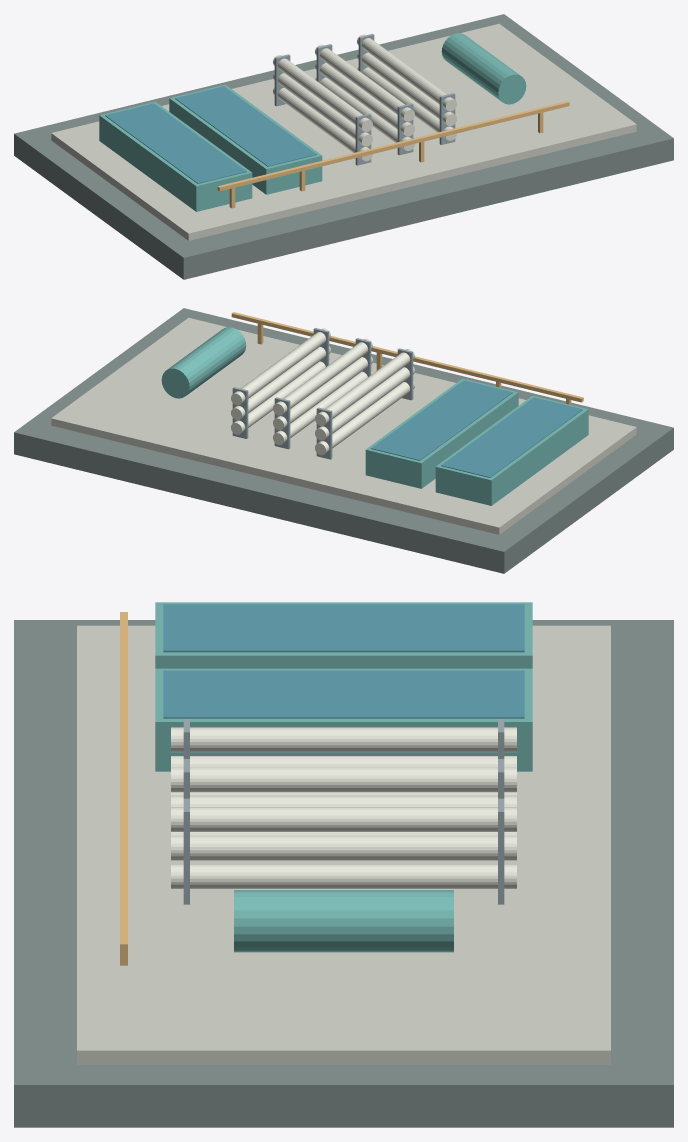
Rendered from world-newater.glb.
3 renders of one model, top to bottom at view 1: azimuth 30°, elevation 25°; view 2: azimuth 150°, elevation 25°; view 3: azimuth 270°, elevation 25°, orthographic. The views are drawn at different scales.
Parts seen in each view (by area): view 1: stage-1-warm-concrete.003, stage-0-excavated-strata.003, stage-3-porcelain.003, stage-2-water-section.003, stage-2-infrastructure-teal.003, stage-4-infrastructure-teal.003, stage-4-safety-ochre.003, stage-3-structural-steel.003; view 2: stage-1-warm-concrete.003, stage-0-excavated-strata.003, stage-3-porcelain.003, stage-2-water-section.003, stage-2-infrastructure-teal.003, stage-4-infrastructure-teal.003, stage-4-safety-ochre.003, stage-3-structural-steel.003; view 3: stage-1-warm-concrete.003, stage-0-excavated-strata.003, stage-3-porcelain.003, stage-2-water-section.003, stage-2-infrastructure-teal.003, stage-4-infrastructure-teal.003, stage-4-safety-ochre.003, stage-3-structural-steel.003.
Part boxes in pixels (x1,y1,x2,y2): stage-1-warm-concrete.003: (51, 23, 636, 240); stage-0-excavated-strata.003: (14, 14, 673, 279); stage-3-porcelain.003: (273, 34, 456, 161); stage-2-water-section.003: (105, 86, 316, 183); stage-2-infrastructure-teal.003: (99, 84, 322, 211); stage-4-infrastructure-teal.003: (441, 33, 526, 104); stage-4-safety-ochre.003: (217, 101, 569, 208); stage-3-structural-steel.003: (274, 34, 455, 165); stage-1-warm-concrete.003: (51, 317, 636, 534); stage-0-excavated-strata.003: (14, 308, 673, 573); stage-3-porcelain.003: (231, 328, 414, 455); stage-2-water-section.003: (371, 380, 582, 477); stage-2-infrastructure-teal.003: (365, 378, 588, 505); stage-4-infrastructure-teal.003: (161, 327, 246, 398); stage-4-safety-ochre.003: (231, 312, 583, 404); stage-3-structural-steel.003: (232, 328, 413, 459); stage-1-warm-concrete.003: (77, 625, 610, 1064); stage-0-excavated-strata.003: (14, 620, 673, 1127); stage-3-porcelain.003: (171, 727, 516, 888); stage-2-water-section.003: (163, 604, 524, 718); stage-2-infrastructure-teal.003: (155, 602, 532, 771); stage-4-infrastructure-teal.003: (234, 890, 453, 952); stage-4-safety-ochre.003: (120, 612, 127, 965); stage-3-structural-steel.003: (183, 719, 504, 904).
Size of the model in its own units: 70 by 10.5 by 42.
